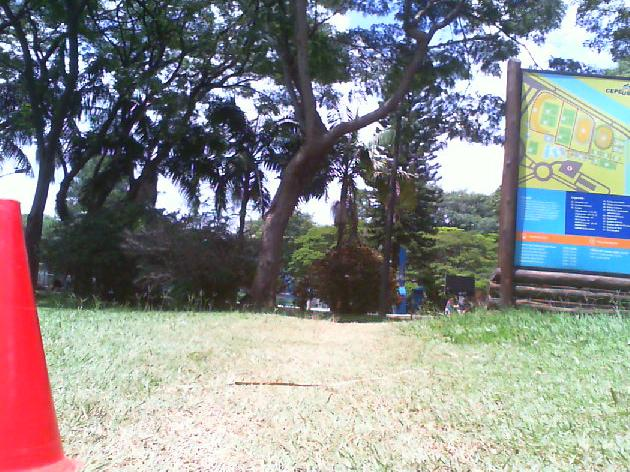0 cone: (0, 197, 76, 472)
